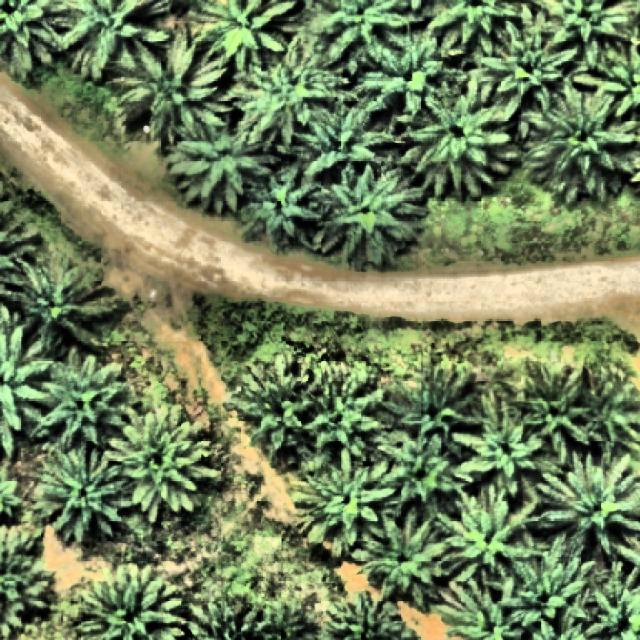Kelapa_Sawit: (105, 20, 238, 146), (395, 74, 520, 203), (222, 29, 350, 152), (524, 75, 640, 206), (107, 403, 221, 528), (317, 160, 431, 274), (163, 110, 283, 218), (1, 252, 121, 358), (294, 446, 397, 565), (357, 18, 468, 128), (426, 482, 542, 586), (479, 4, 579, 120), (30, 340, 130, 451), (350, 504, 448, 614), (231, 352, 320, 468), (373, 422, 469, 527), (302, 361, 388, 477), (381, 351, 484, 447), (454, 390, 544, 499), (295, 92, 403, 180), (36, 442, 126, 544), (233, 160, 322, 254), (516, 358, 592, 466), (497, 555, 594, 631)
